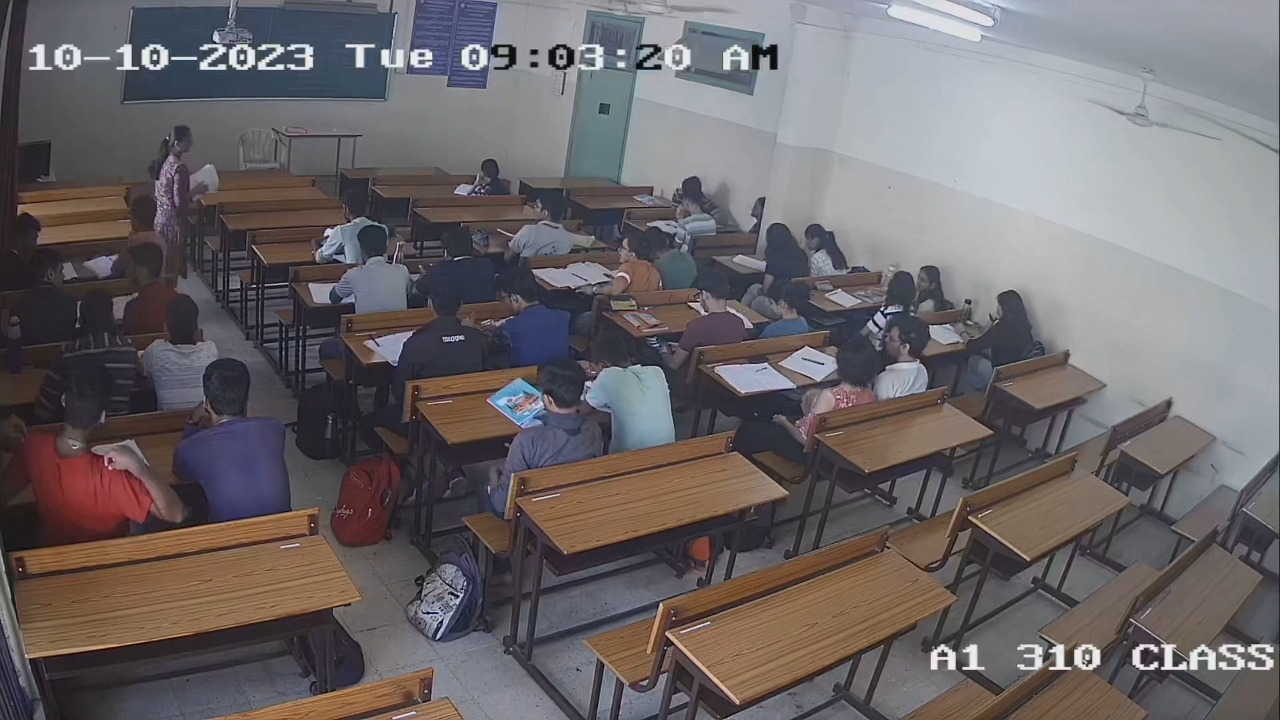cell-phones: (606, 294, 640, 311), (813, 279, 835, 292), (746, 353, 770, 364)
person: (813, 338, 877, 411), (687, 271, 743, 345), (869, 270, 918, 322)
